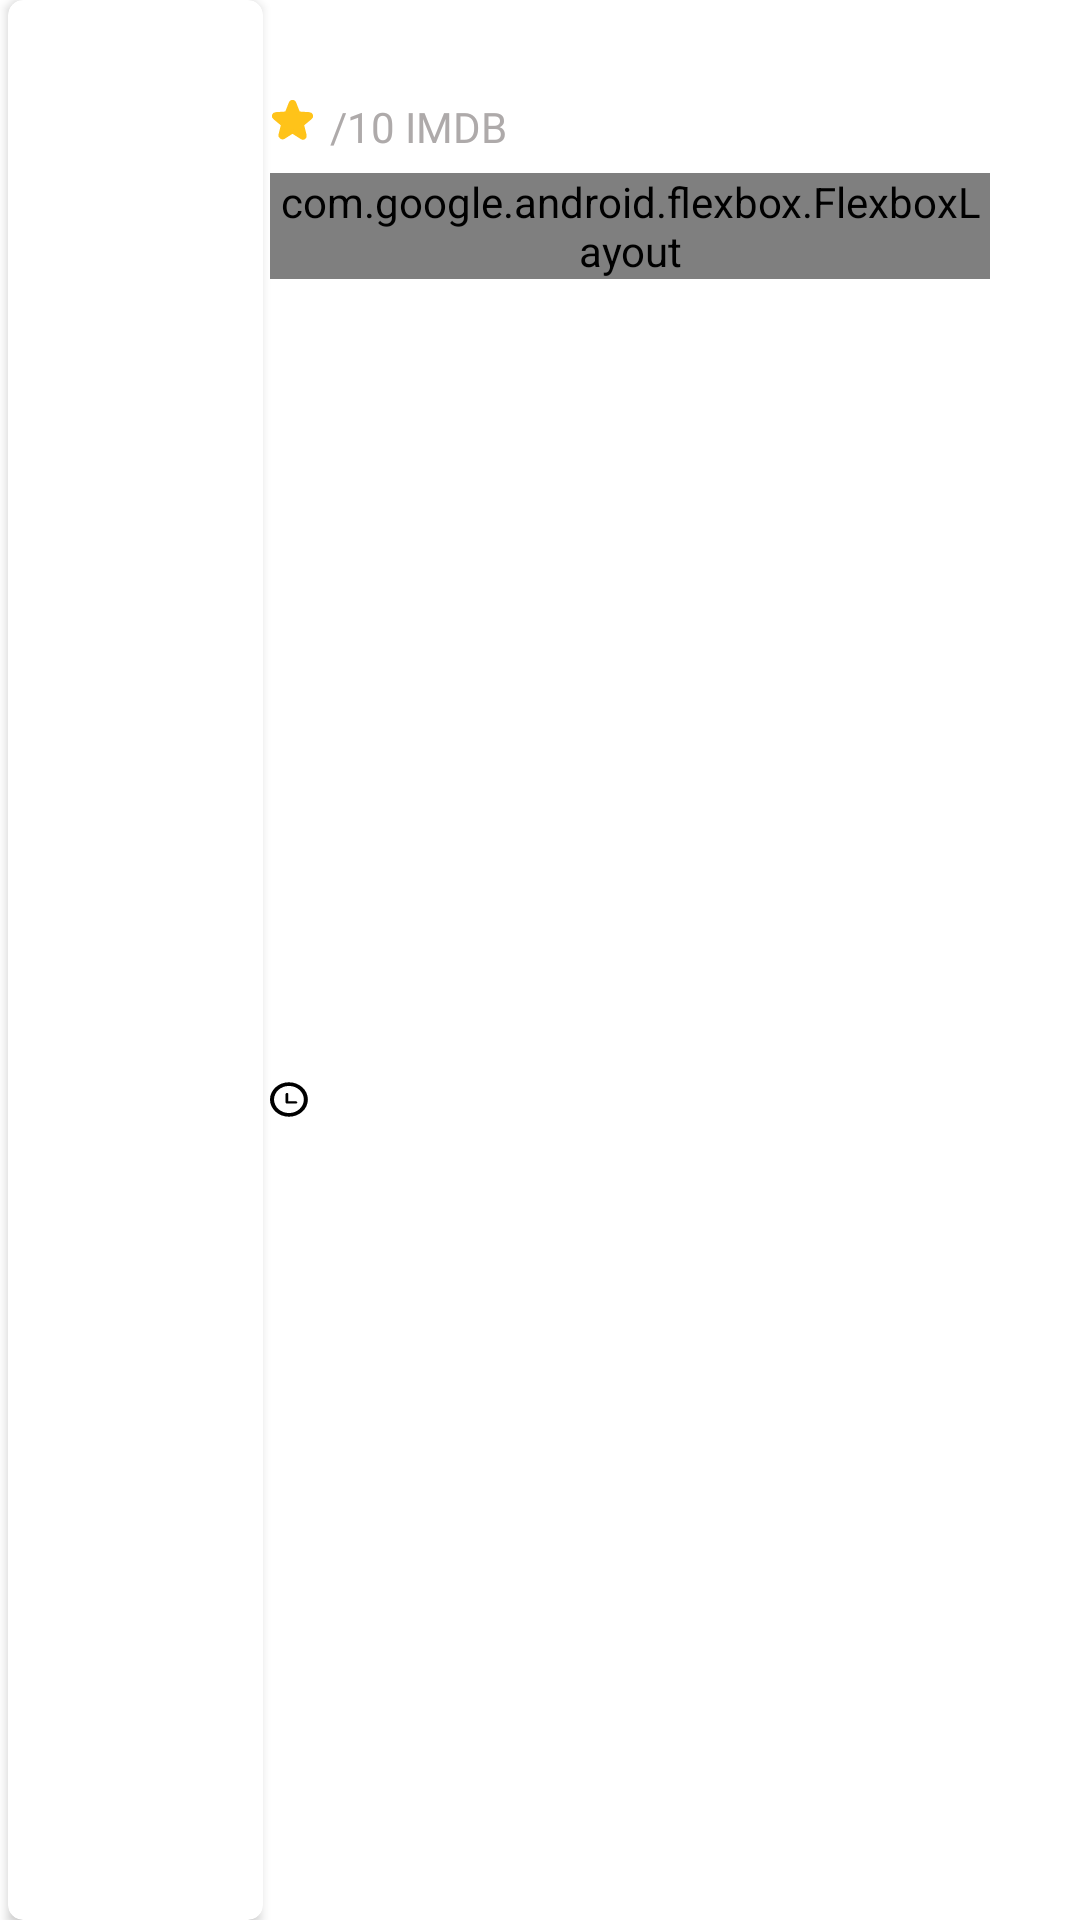

Named icons in this screenshot (1080x1920) and their bounding boxes, bbox(x1, y1, x2, y2):
runtime: bbox(270, 1082, 308, 1117)
star: bbox(272, 100, 313, 140)
